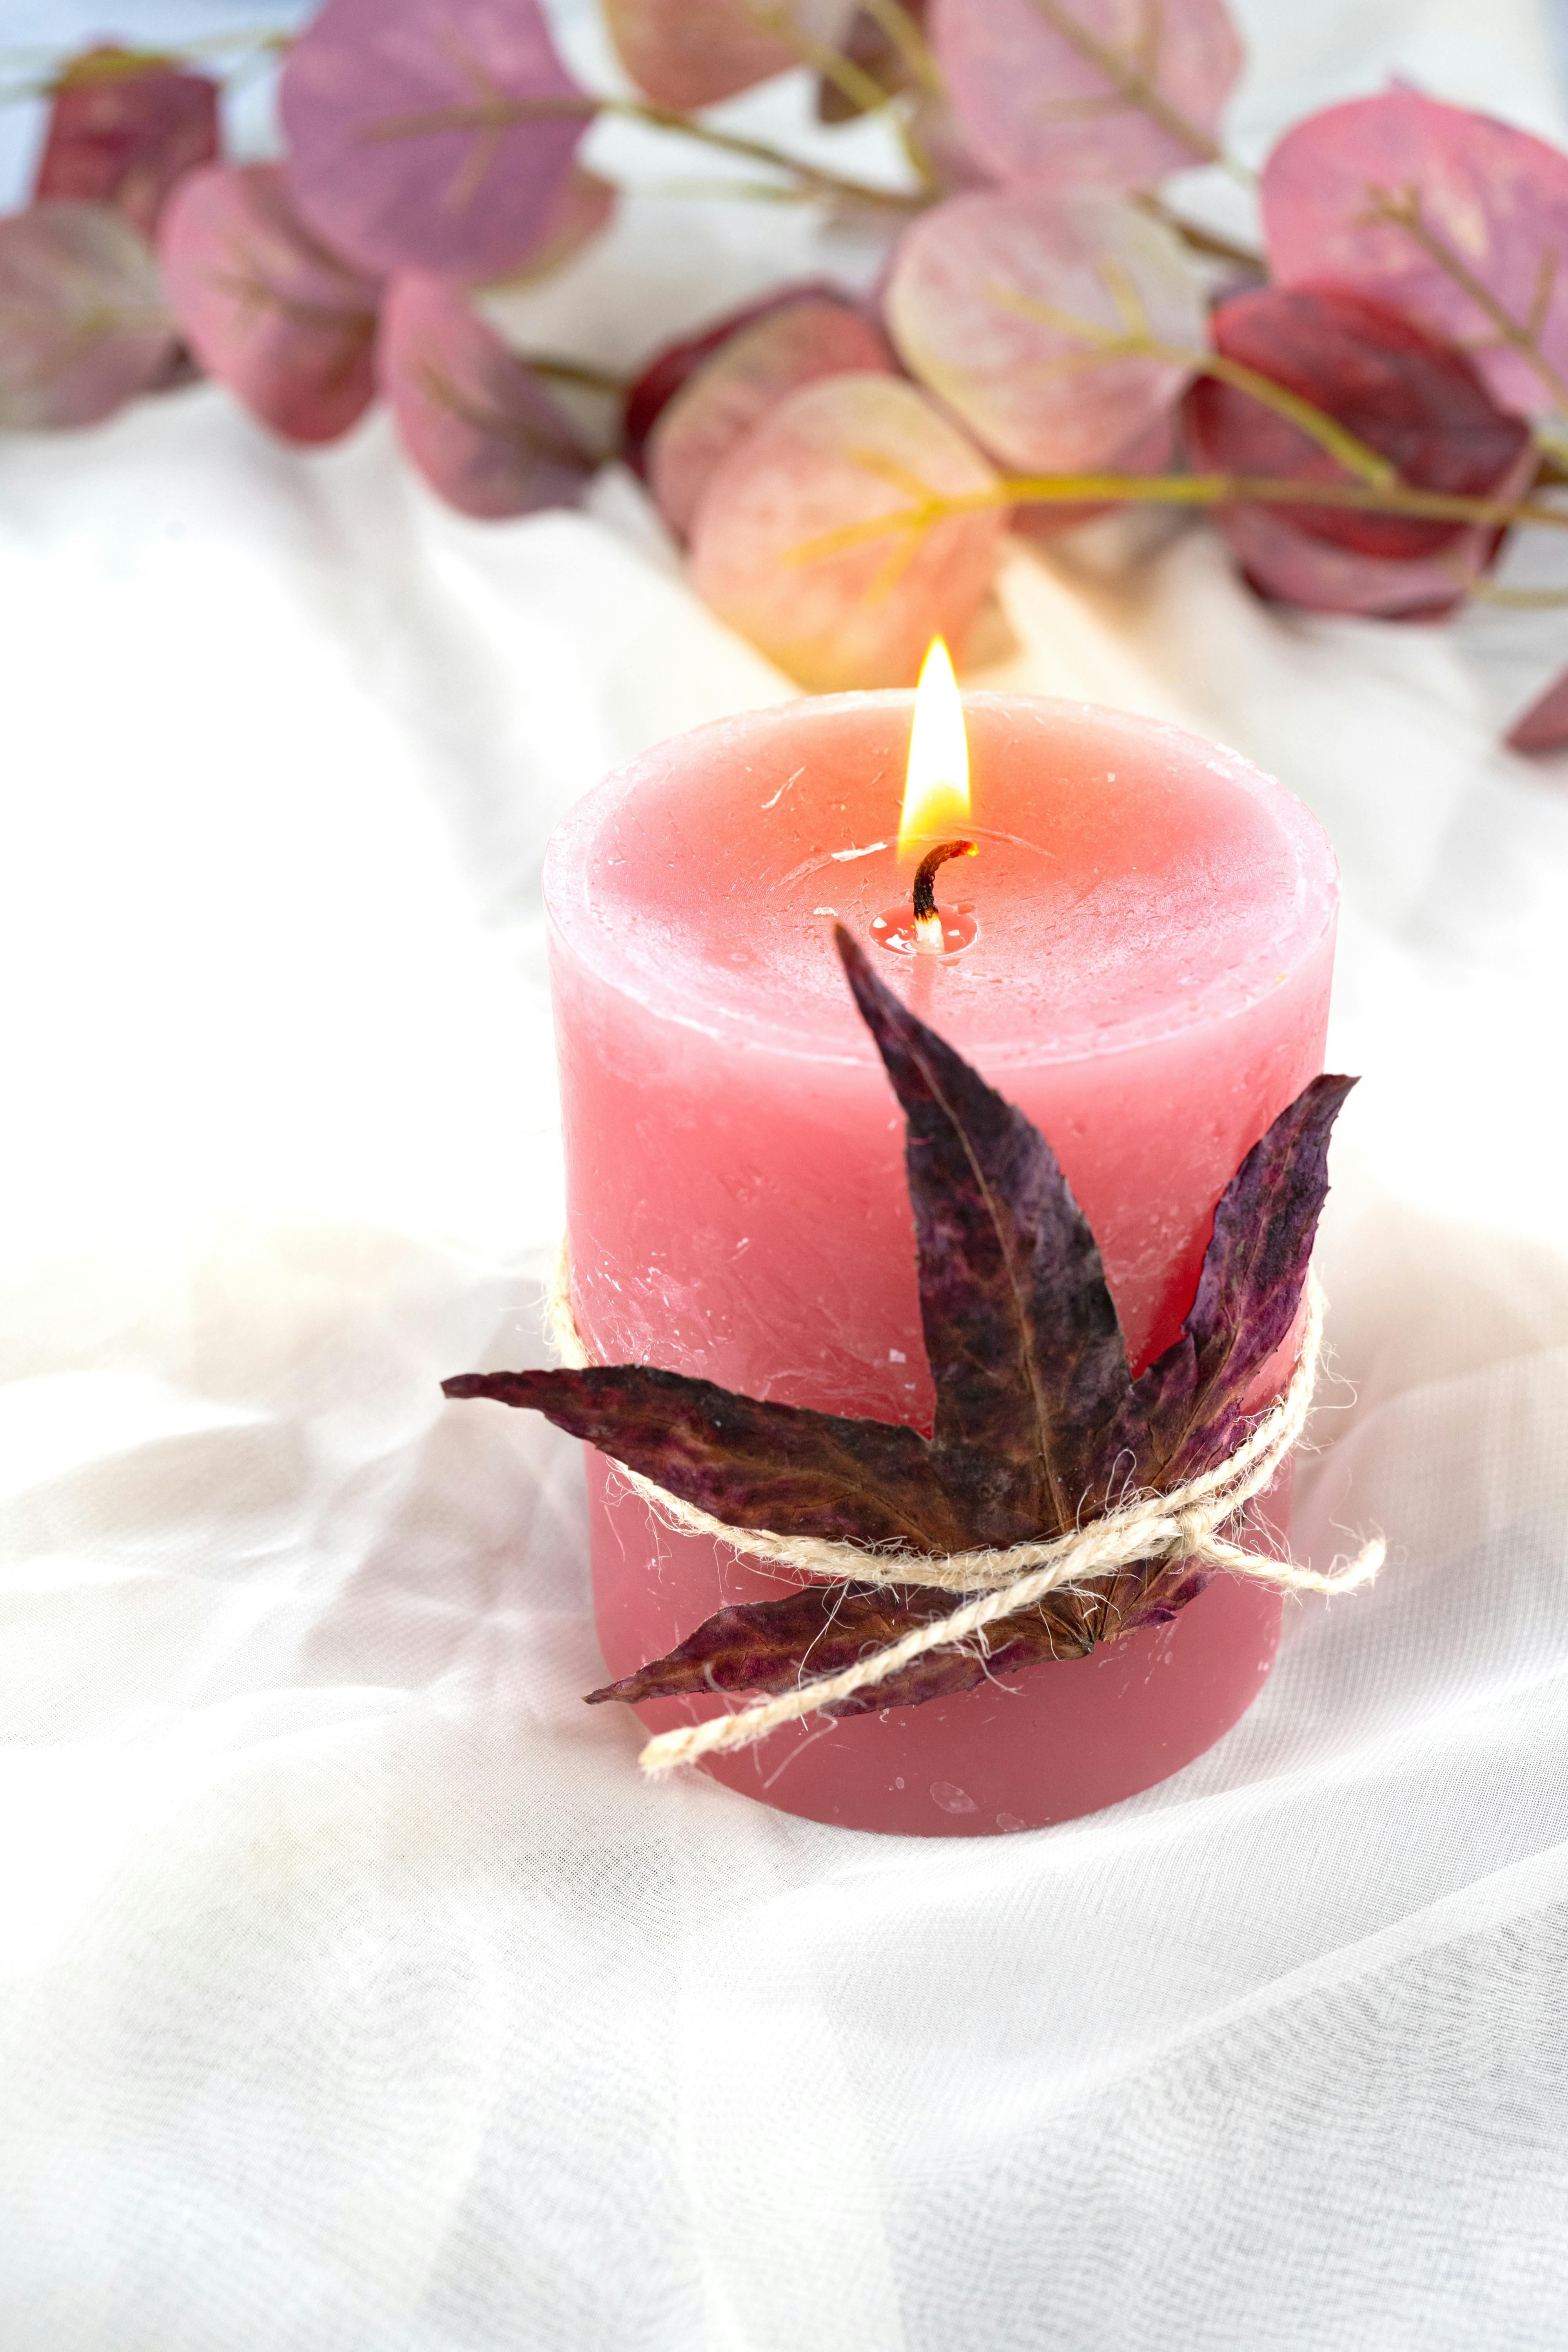Fire: (875, 585, 992, 929)
